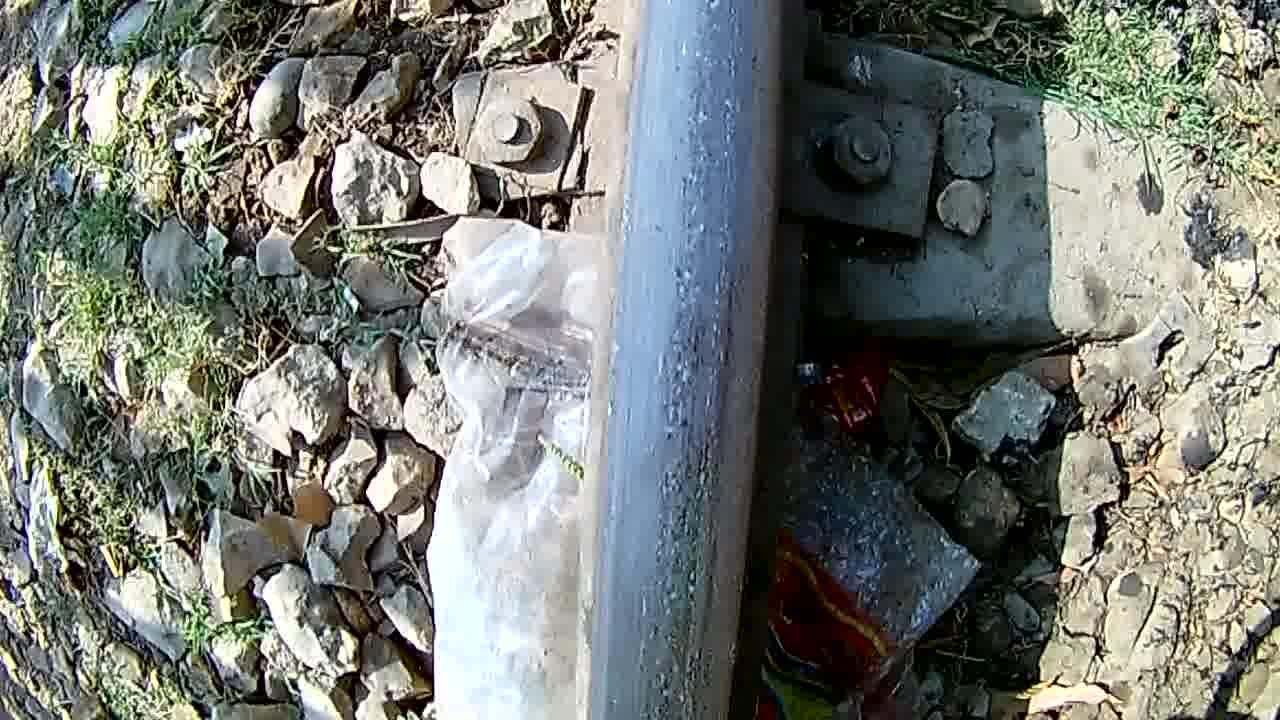clip_missing: (636, 5, 776, 716)
